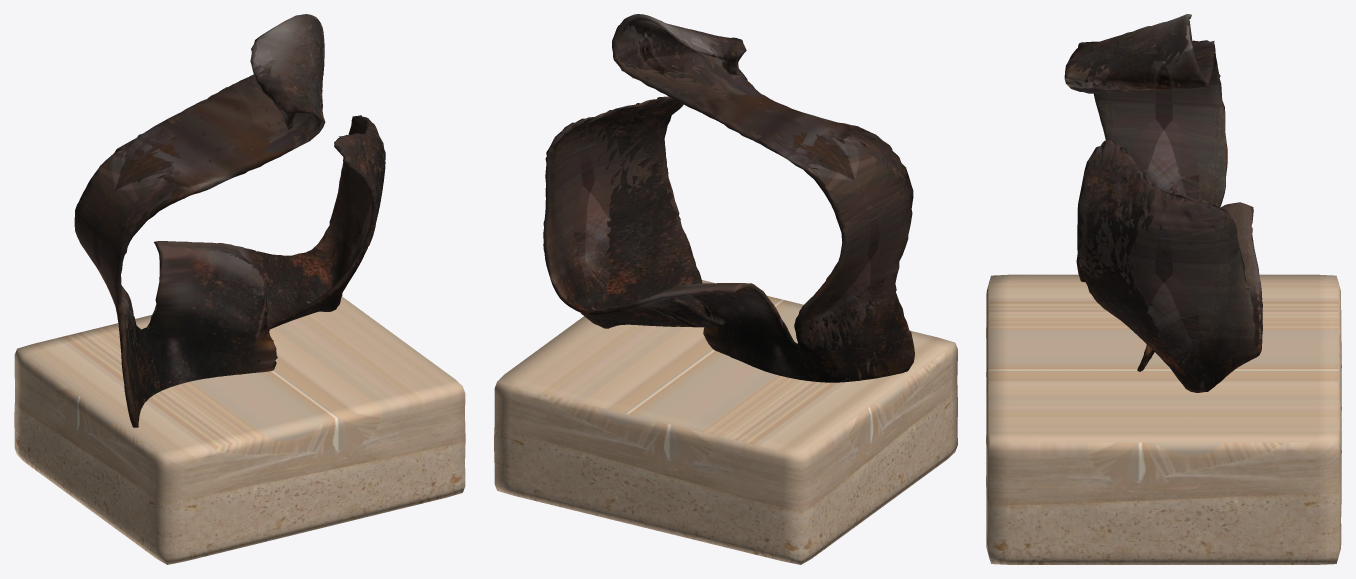
Rendered from hy3d-esc-032.glb.
3 renders of one model, left to right at view 1: azimuth 30°, elevation 25°; view 2: azimuth 150°, elevation 25°; view 3: azimuth 270°, elevation 25°, orthographic. The views are drawn at different scales.
Parts seen in each view (by area): view 1: world; view 2: world; view 3: world.
Part boxes in pixels (box(x1,y1,x2,y2)): world: box(14, 14, 465, 564); world: box(494, 14, 957, 564); world: box(986, 14, 1341, 564).
Bounding box in the file's own units: 0.7908 × 1.08 × 0.6966.
1 material, 1 textured.
